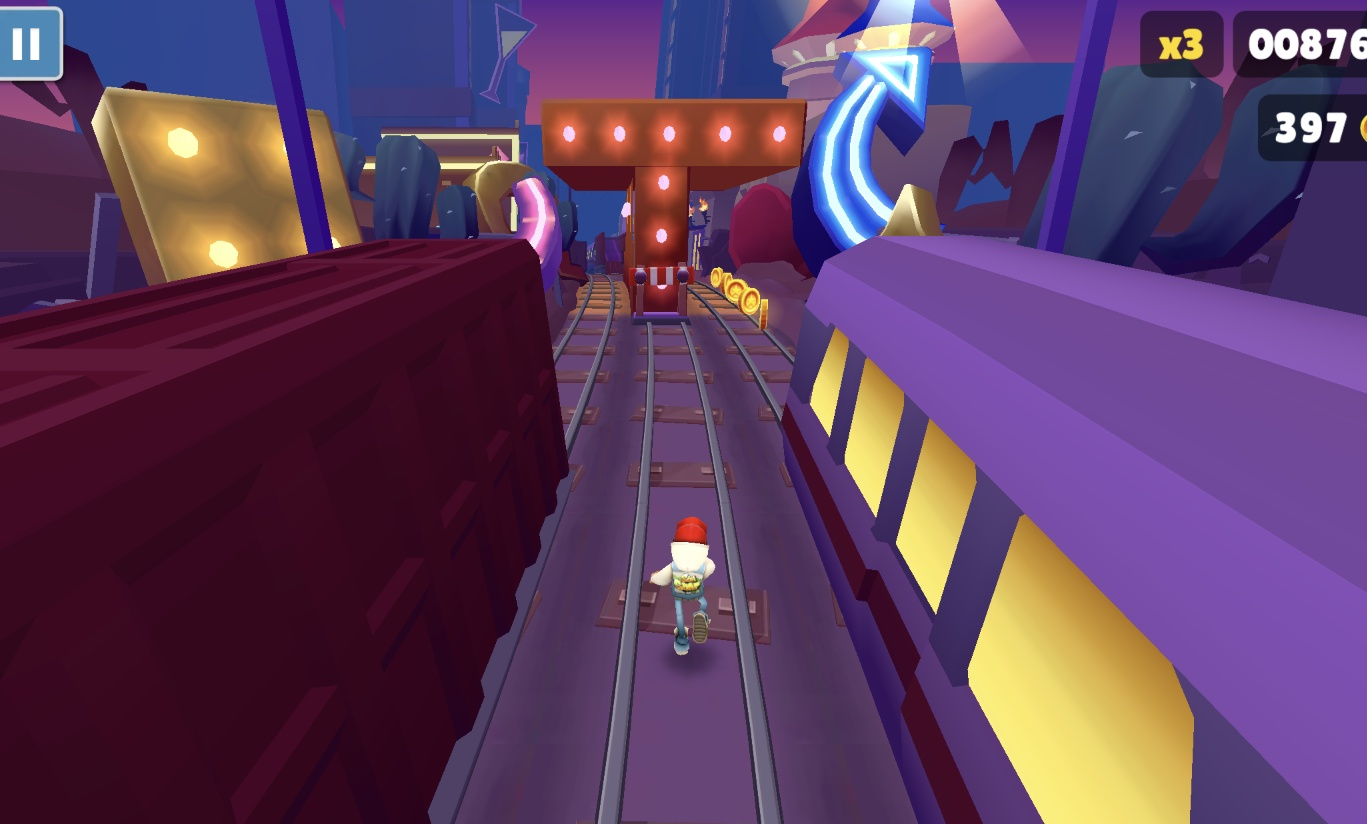ground_barrier: (628, 264, 698, 326)
pillar: (622, 166, 696, 317)
train: (785, 237, 1367, 824), (0, 238, 570, 824)
